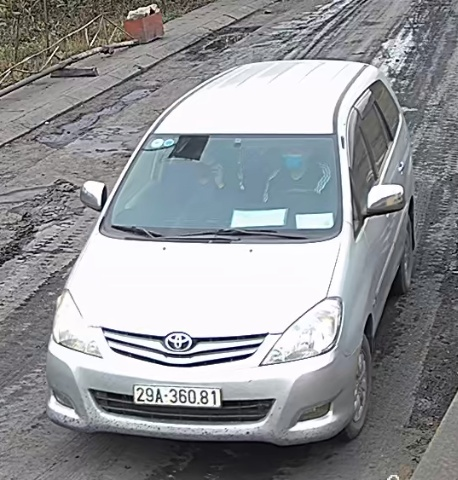vehicle plate: (120, 381, 228, 408)
